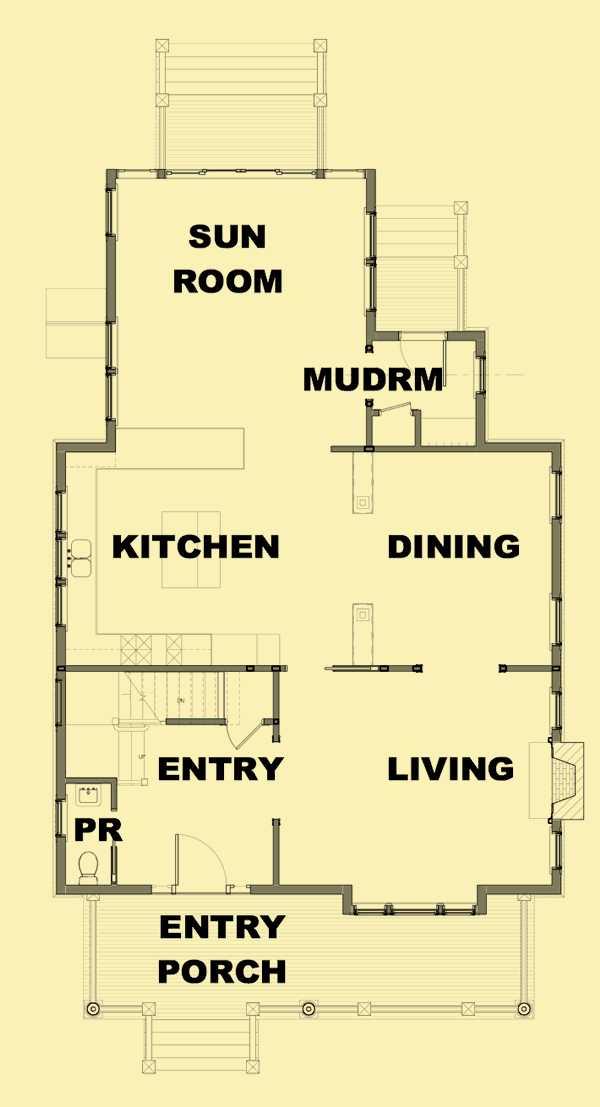entry porch has stairs: (83, 885, 541, 1075)
small bathroom has a small and large sink: (51, 777, 124, 893)
this kitchen has a twin sink with kitchen bar: (51, 425, 292, 679)
